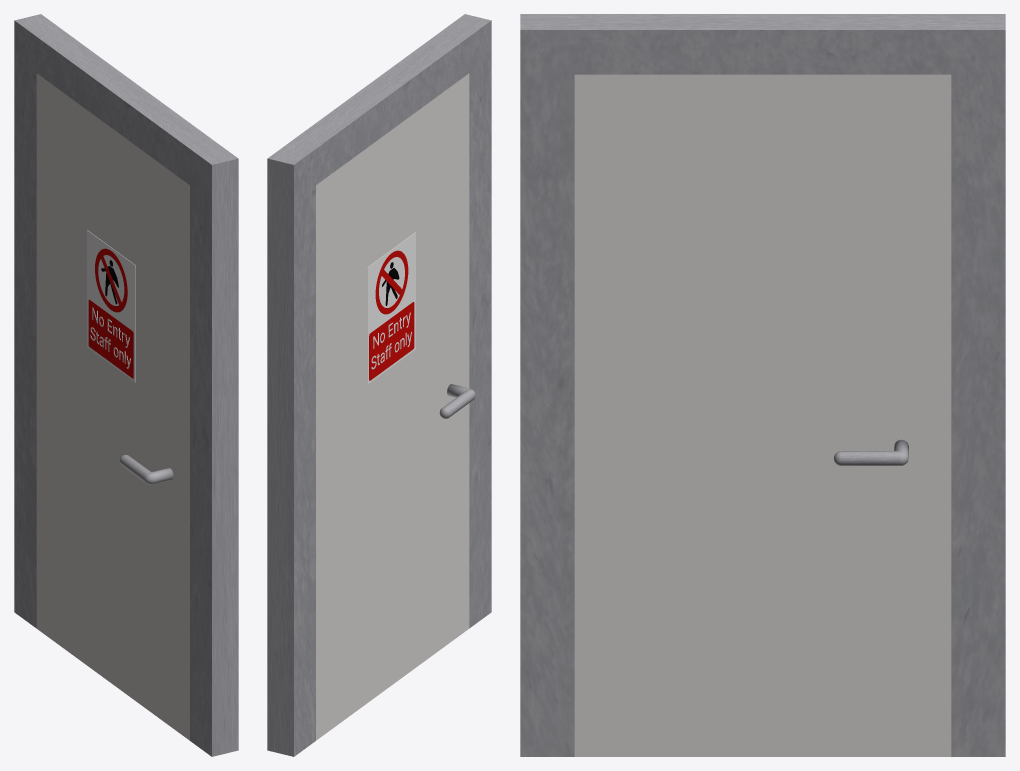
Rendered from door.fbx.
3 views of the same model, side by side, from view 1: azimuth 30°, elevation 25°; view 2: azimuth 150°, elevation 25°; view 3: azimuth 270°, elevation 25° (orthographic). The views are drawn at different scales.
Parts seen in each view (by area): view 1: gun wall.004, door.003; view 2: gun wall.004, door.003; view 3: gun wall.004, door.003.
Boxes of the visible parts, x1,y1,x2,y2 form: gun wall.004: (36, 73, 189, 740); door.003: (14, 14, 238, 756); gun wall.004: (316, 73, 475, 740); door.003: (267, 14, 491, 756); gun wall.004: (574, 74, 951, 756); door.003: (520, 14, 1005, 756).
Bounding box in the file's own units: 29.25 × 213 × 129.
5 materials, 2 textured.
